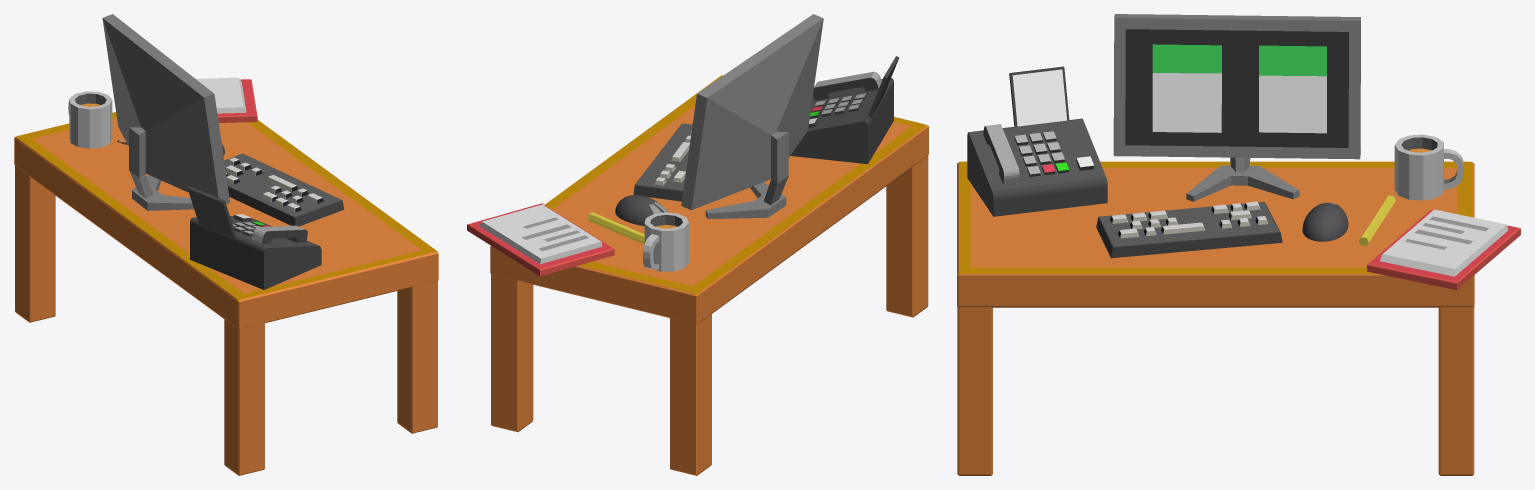
Rendered from upgradetable.fbx.
3 views of the same model, side by side, from view 1: azimuth 30°, elevation 25°; view 2: azimuth 150°, elevation 25°; view 3: azimuth 270°, elevation 25° (orthographic). The views are drawn at different scales.
Visible parts, largest first — view 1: Plane, Plane.004, Plane.003, Plane.001, Cylinder.001, Plane.002; view 2: Plane, Plane.004, Plane.003, Plane.002, Plane.001, Cylinder.001, Sphere, Cylinder; view 3: Plane, Plane.004, Plane.003, Plane.001, Plane.002, Cylinder.001, Sphere.
Boxes of the visible parts, x1,y1,x2,y2 form: Plane: [14, 112, 438, 475]; Plane.004: [102, 14, 230, 210]; Plane.003: [187, 186, 321, 289]; Plane.001: [224, 153, 344, 226]; Cylinder.001: [68, 91, 112, 148]; Plane.002: [195, 77, 257, 122]; Plane: [490, 75, 928, 475]; Plane.004: [681, 14, 823, 219]; Plane.003: [790, 56, 899, 163]; Plane.002: [467, 203, 614, 276]; Plane.001: [633, 123, 692, 201]; Cylinder.001: [643, 212, 688, 271]; Sphere: [615, 195, 668, 226]; Cylinder: [587, 212, 644, 244]; Plane: [957, 161, 1474, 475]; Plane.004: [1113, 14, 1360, 201]; Plane.003: [967, 66, 1107, 216]; Plane.001: [1096, 201, 1282, 258]; Plane.002: [1367, 209, 1520, 290]; Cylinder.001: [1394, 134, 1463, 200]; Sphere: [1302, 202, 1348, 241].
Size of the model in its own units: 318 by 417 by 574.
